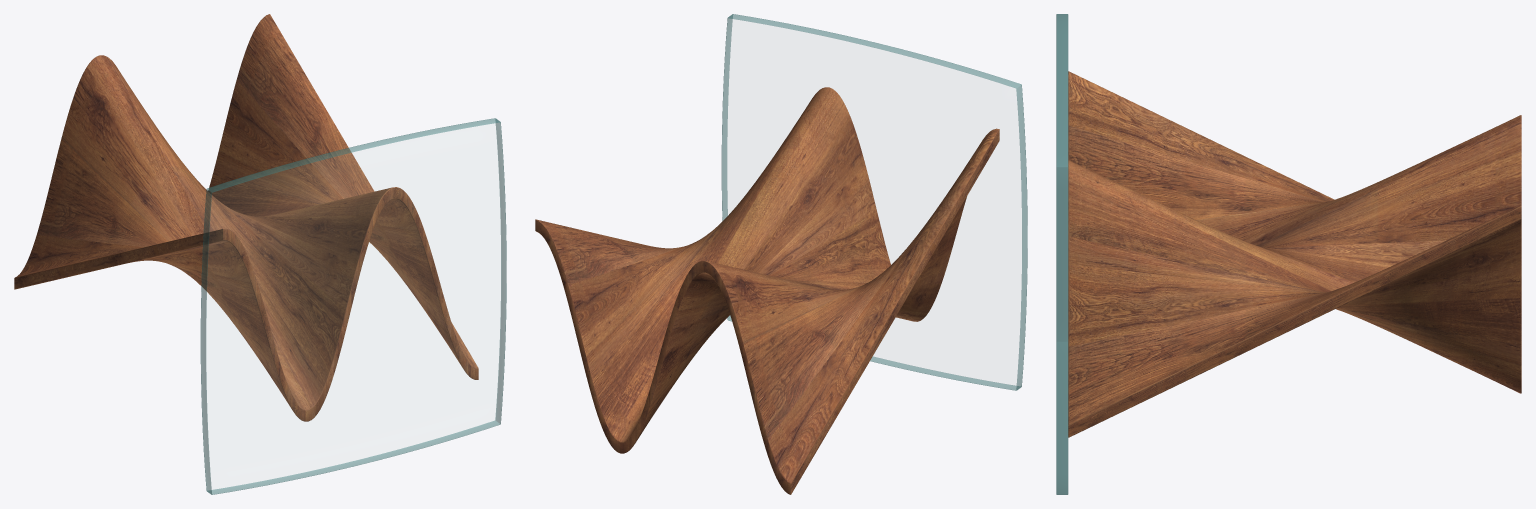
Rendered from wave-series-table.obj.
3 views of the same model, side by side, from view 1: azimuth 30°, elevation 25°; view 2: azimuth 150°, elevation 25°; view 3: azimuth 270°, elevation 25° (orthographic). The views are drawn at different scales.
Parts seen in each view (by area): view 1: wave_series_d2, Object001, wave_series_d21; view 2: wave_series_d2, Object001; view 3: wave_series_d2, Object001.
Part boxes in pixels (x1,y1,x2,y2): wave_series_d2: (14, 14, 478, 421); Object001: (200, 118, 506, 494); wave_series_d21: (223, 187, 478, 421); wave_series_d2: (535, 87, 999, 494); Object001: (721, 14, 1027, 390); wave_series_d2: (1068, 71, 1521, 437); Object001: (1056, 14, 1068, 494).
Bounding box in the file's own units: 0.3241 × 0.3241 × 0.4.
